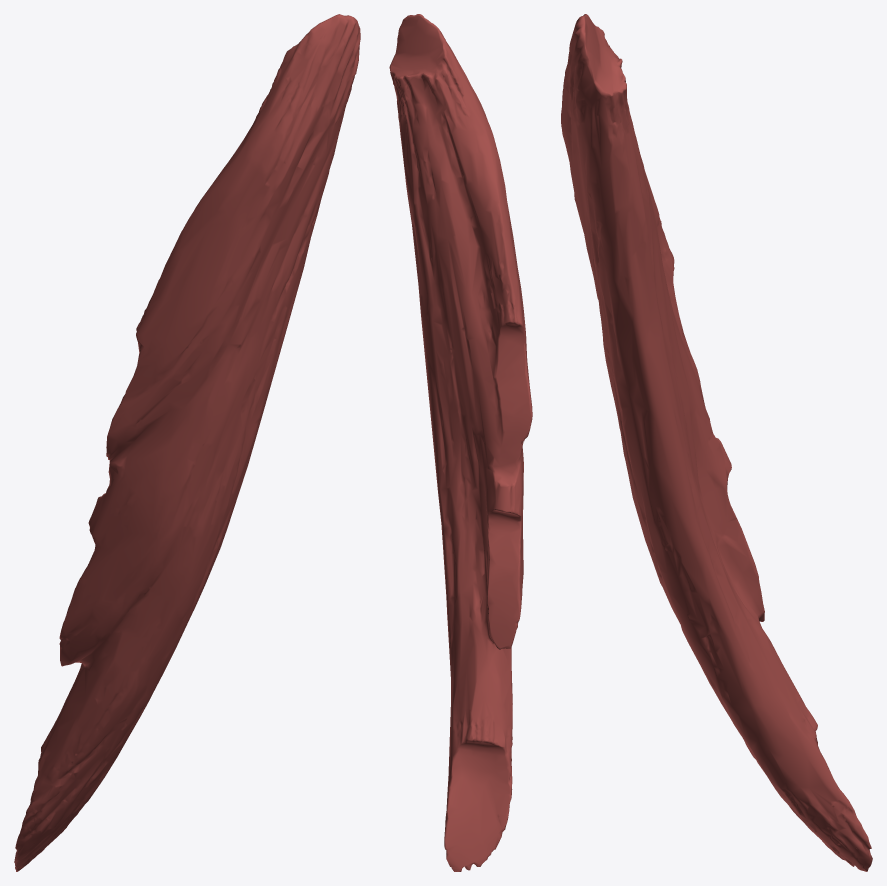
Rendered from FMA46288.glb.
The picture shows the model from 3 angles, left to right: view 1: azimuth 30°, elevation 25°; view 2: azimuth 150°, elevation 25°; view 3: azimuth 270°, elevation 25°; orthographic projection. The views are drawn at different scales.
Visible parts, largest first — view 1: FMA46288; view 2: FMA46288; view 3: FMA46288.
Boxes of the visible parts, box(x1,y1,x2,y2) form: FMA46288: box(14, 14, 360, 871); FMA46288: box(389, 14, 532, 871); FMA46288: box(561, 14, 872, 871).
Size of the model in its own units: 0.0204 by 0.0734 by 0.0219.
